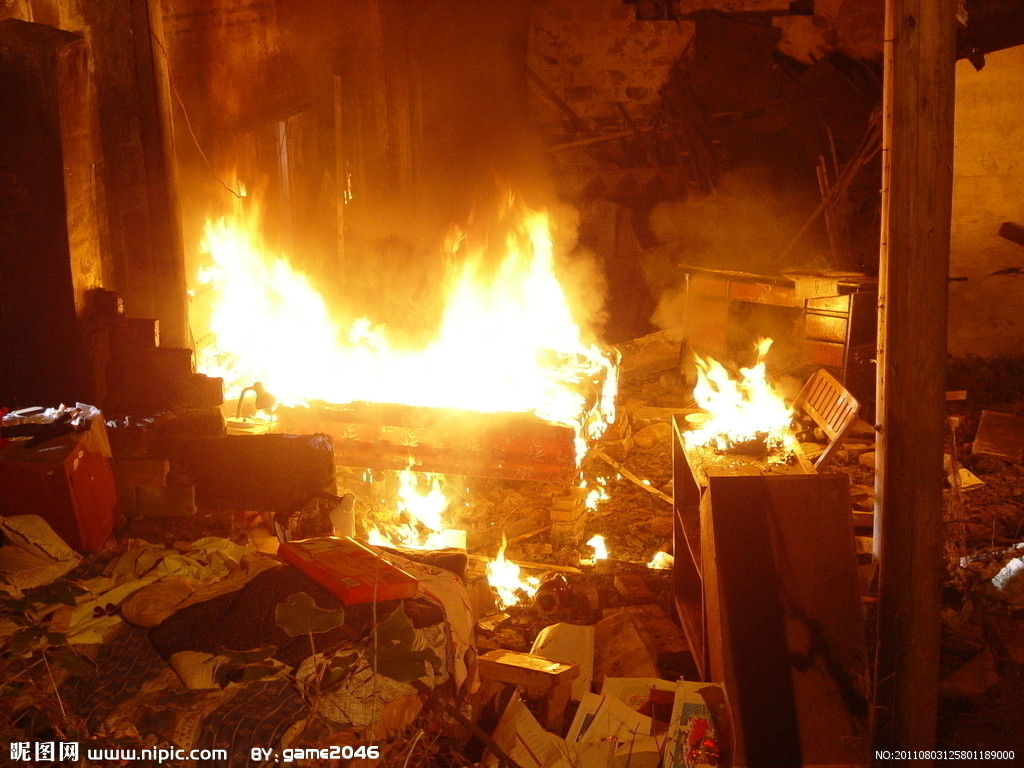fire: (187, 155, 617, 430), (356, 429, 565, 610), (678, 321, 833, 462)
